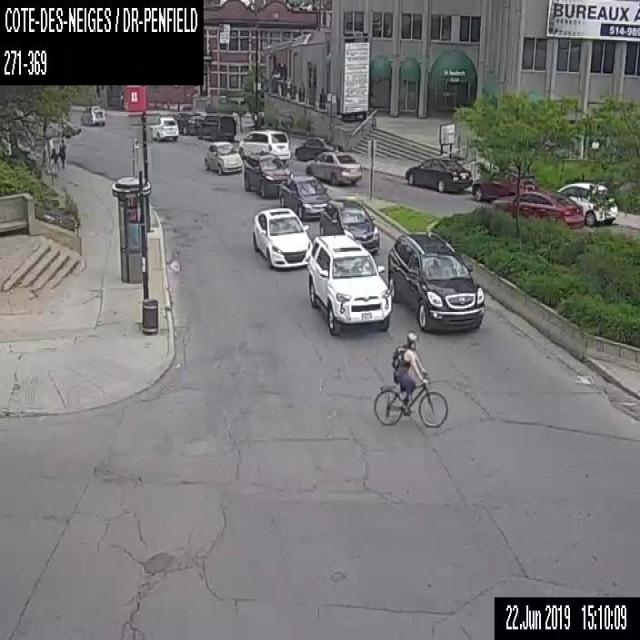cyclist: (371, 329, 448, 428)
pedestrian: (58, 138, 66, 167), (49, 147, 58, 172)
vehicle: (387, 232, 484, 329), (308, 234, 393, 335), (252, 206, 313, 268), (492, 190, 582, 228), (318, 198, 379, 252), (556, 180, 618, 227), (278, 173, 330, 220), (405, 154, 472, 190), (472, 165, 537, 202), (244, 151, 293, 197), (304, 149, 362, 184), (238, 129, 290, 163), (204, 140, 242, 172), (294, 135, 342, 159), (195, 114, 235, 142), (149, 115, 178, 139), (174, 109, 200, 135), (80, 105, 105, 124)
